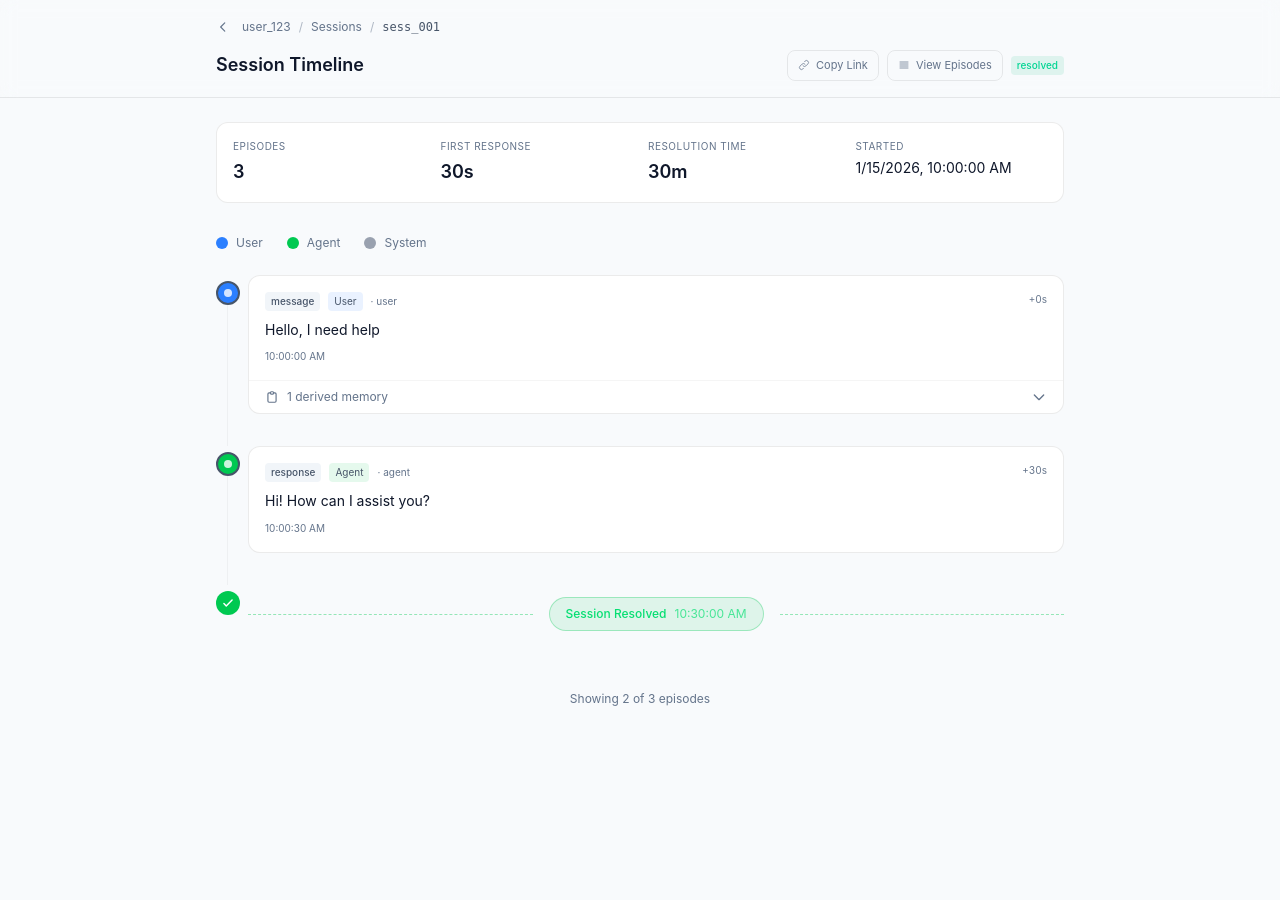
Test: SessionTimelinePage - Inline Memory Drill-Through › clicking memory count expands inline memories
Expected: the text "Hello, I need help" is shown, [265,320,380,338]
Click the expand button for derived memories
Click the button "1 derived memory": {"x": 317, "y": 397} [249,381,1063,413]
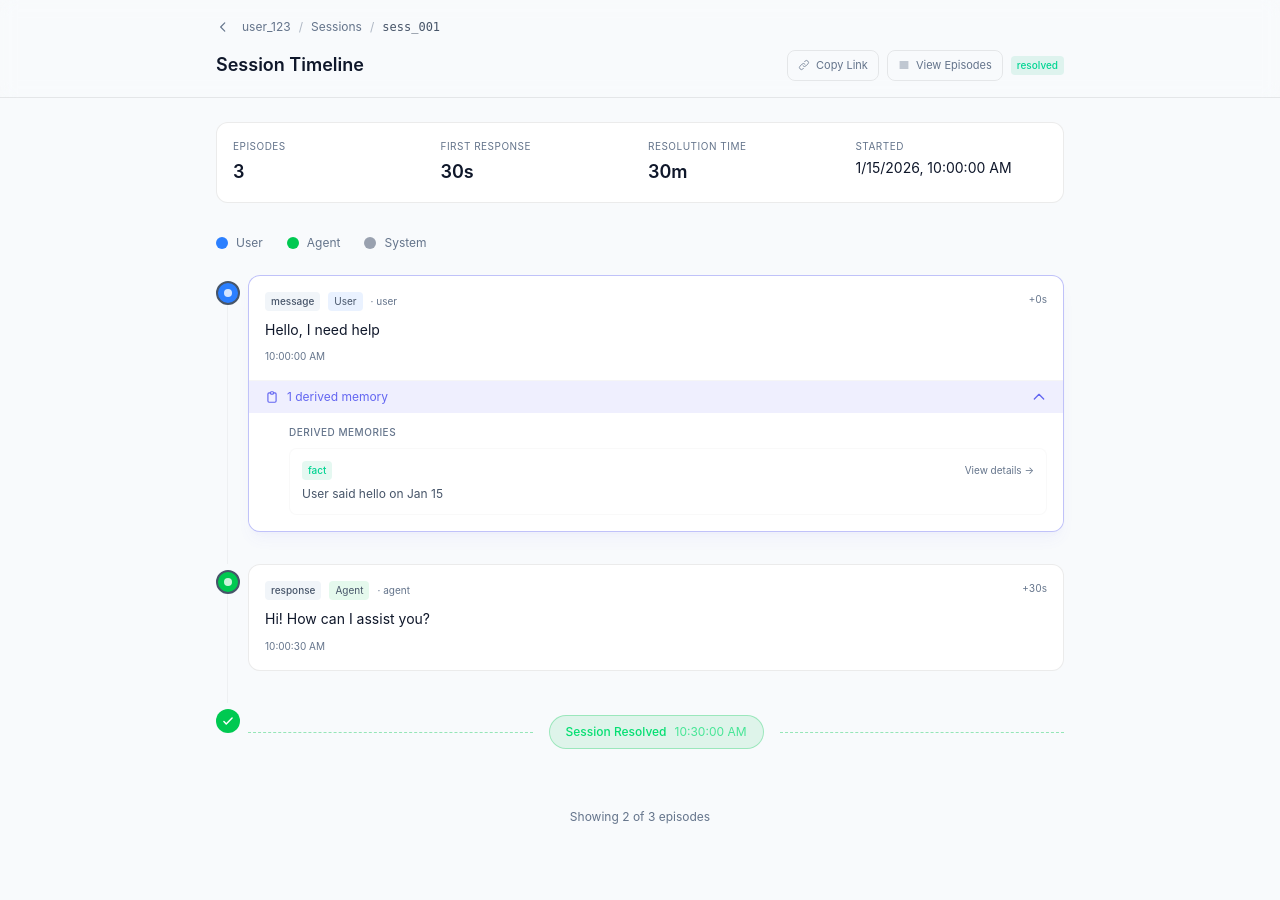
Expected: the text "User said hello on Jan 15" is shown, [302,486,443,501]
